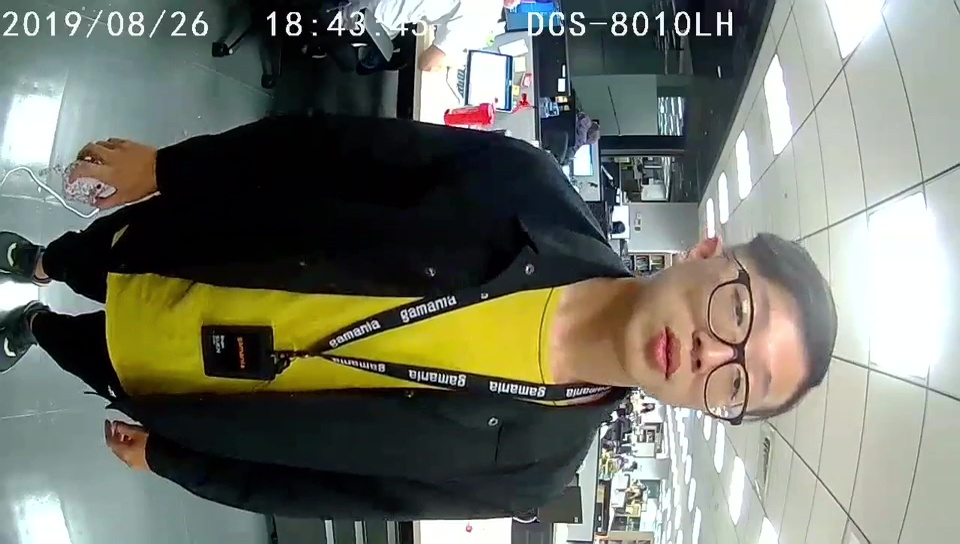pig: (61, 159, 108, 202)
